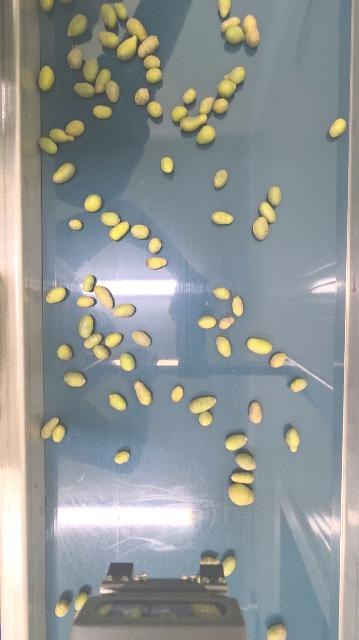Baby Potato: (228, 482, 256, 507), (243, 12, 262, 48), (116, 35, 139, 62), (188, 394, 218, 414), (136, 33, 160, 58), (66, 13, 89, 38), (180, 113, 210, 132), (99, 2, 119, 30), (53, 161, 76, 184), (126, 17, 148, 41), (94, 284, 114, 310), (37, 64, 55, 92), (82, 57, 101, 83), (133, 380, 152, 406), (94, 67, 112, 94), (247, 337, 274, 355), (195, 124, 217, 146), (223, 24, 246, 45), (258, 200, 278, 224), (108, 220, 130, 241), (41, 415, 59, 440), (67, 46, 85, 70), (49, 127, 76, 143), (78, 314, 95, 339), (253, 216, 270, 241), (217, 78, 238, 98), (235, 452, 257, 471), (45, 286, 68, 304), (225, 434, 249, 451), (63, 370, 87, 387), (267, 622, 289, 640), (98, 30, 120, 48), (329, 117, 347, 139), (73, 81, 96, 98), (286, 427, 301, 453), (249, 400, 265, 424), (105, 79, 121, 103), (228, 64, 247, 84), (108, 392, 127, 412), (38, 136, 59, 154), (216, 335, 233, 357), (84, 193, 102, 213), (132, 329, 152, 347), (198, 95, 216, 115), (113, 302, 135, 318), (231, 470, 256, 484), (213, 168, 229, 189), (268, 184, 283, 206), (212, 210, 234, 225), (222, 555, 237, 577), (145, 66, 163, 84), (171, 104, 189, 122), (66, 119, 85, 136), (84, 332, 103, 349), (103, 332, 123, 348), (142, 54, 162, 70), (120, 351, 135, 372), (73, 591, 88, 612), (134, 87, 151, 105), (147, 100, 164, 118), (198, 314, 217, 330), (93, 104, 113, 119), (232, 294, 245, 317), (52, 423, 66, 444), (270, 351, 287, 368), (213, 96, 230, 113), (217, 0, 233, 18), (101, 211, 120, 226), (113, 1, 128, 20), (147, 256, 167, 270), (222, 15, 242, 29), (93, 343, 110, 359), (132, 224, 150, 239), (183, 87, 198, 105), (290, 377, 308, 392), (55, 599, 69, 618), (57, 343, 72, 360), (213, 286, 231, 300), (149, 236, 162, 255), (76, 295, 95, 308), (160, 156, 174, 173), (171, 385, 184, 403), (82, 274, 95, 292), (199, 411, 214, 426), (114, 450, 130, 464), (219, 316, 235, 329), (38, 0, 55, 12), (69, 218, 83, 230), (55, 0, 76, 4)
